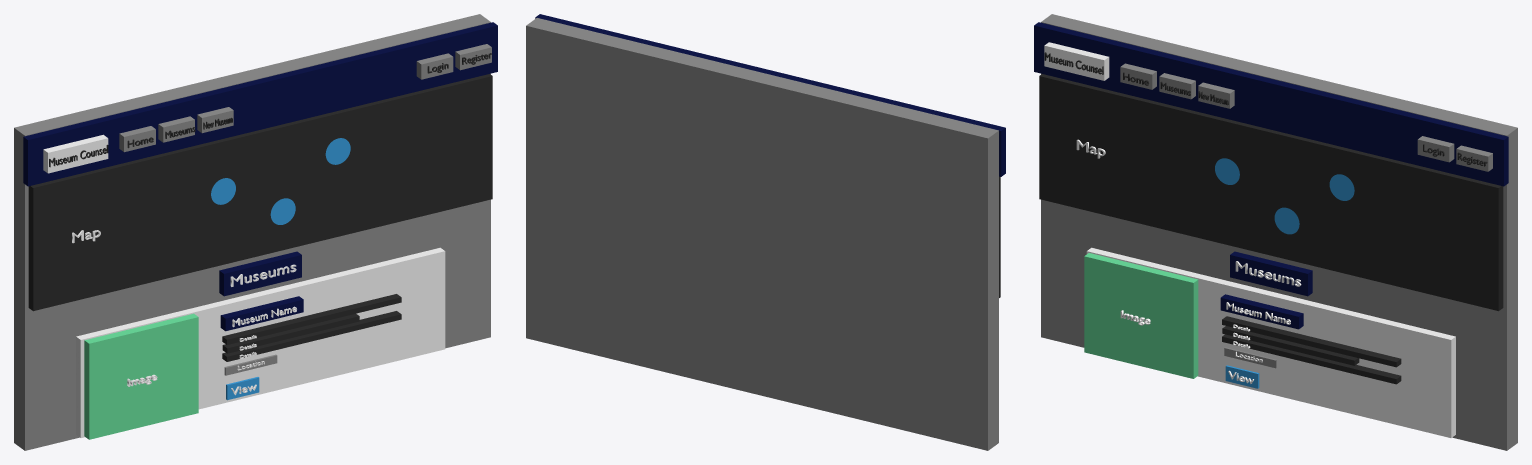
3 views of the same model, side by side, from view 1: azimuth 30°, elevation 25°; view 2: azimuth 150°, elevation 25°; view 3: azimuth 330°, elevation 25° (orthographic).
Visible parts, largest first — view 1: Cube.001; view 2: Cube.001; view 3: Cube.001.
Part boxes in pixels (<box>): Cube.001: <box>14,14,497,450</box>; Cube.001: <box>526,14,1005,450</box>; Cube.001: <box>1034,14,1517,450</box>.
Size of the model in its own units: 21.23 by 13.61 by 1.81.
